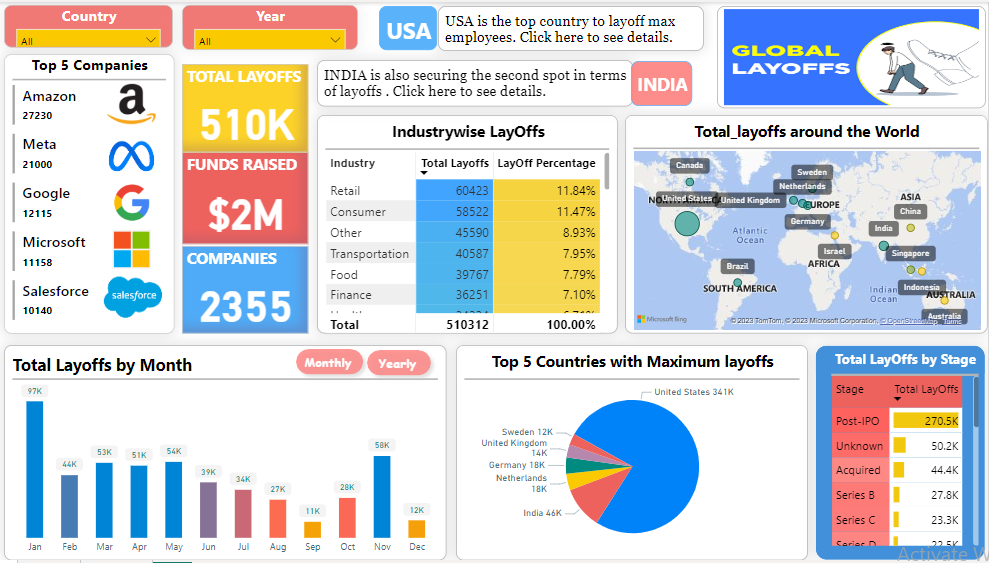

What the dashboard file says about the page in this screenshot:
{"tool":"powerbi","page":{"name":"WORLDWIDE","canvas":[1280,720],"ordinal":0},"visuals":[{"type":"donutChart","title":"Top 5 Countries with Maximum layoffs","fields":{"Category":["Countrywise_layoff_count.layoffs_country"],"Y":["Sum(Countrywise_layoff_count.Total_layoffs)"]},"box":[593,442.2,453.5,277.8],"z":0},{"type":"map","title":"Total_layoffs around the World","fields":{"Category":["Countrywise_layoff_count.layoffs_country","layoffs.location"],"Size":["Max(Countrywise_layoff_count.Total_layoffs)"]},"box":[812.1,146,467.7,282],"z":1000},{"type":"clusteredColumnChart","fields":{"Category":["layoffs.Month"],"Y":["Sum(layoffs.total_laid_off)"]},"box":[9.9,442.2,571.2,277.8],"z":2000},{"type":"tableEx","title":"Industrywise LayOffs","fields":{"Values":["layoffs.industry","Sum(layoffs.total_laid_off)","Sum(layoffs.% LayOffs)"]},"box":[413.9,146,388.3,282],"z":3000},{"type":"slicer","title":"Country","fields":{"Values":["layoffs.country"]},"box":[9.9,4.3,218.3,55.3],"z":4000},{"type":"slicer","title":"Year","fields":{"Values":["layoffs.Year","layoffs.Month"]},"box":[239.5,4.3,226.8,58.1],"z":5000},{"type":"tableEx","title":"Total LayOffs by Stage","fields":{"Values":["layoffs.stage","Sum(layoffs.total_laid_off)"]},"box":[1057.3,442.2,219.7,277.8],"z":6000},{"type":"multiRowCard","title":"Top 5 Companies ","fields":{"Values":["layoffs.company","Sum(layoffs.total_laid_off)"]},"box":[9.9,66.6,219.7,361.4],"z":8000},{"type":"card","title":"FUNDS RAISED","fields":{"Values":["Sum(layoffs.funds_raised)"]},"box":[239.5,194.2,163,119.1],"z":9000},{"type":"card","title":"TOTAL LAYOFFS","fields":{"Values":["layoffs.Total Employees Laid Off"]},"box":[239.5,80,163,114],"z":10000},{"type":"card","title":"COMPANIES","fields":{"Values":["Count(layoffs.company)"]},"box":[239.5,314.6,163,113.4],"z":11000},{"type":"textbox","box":[569.8,5,343,58.1],"z":12000},{"type":"textbox","box":[413.9,75.1,408.2,59.5],"z":13000},{"type":"actionButton","box":[494.6,5,75.1,56.7],"z":14000},{"type":"actionButton","box":[819.2,76.5,79.4,58.1],"z":15000},{"type":"image","box":[134.6,228.2,82.2,59.5],"z":16000},{"type":"image","box":[134.6,289.1,80.8,59.5],"z":17000},{"type":"image","box":[134.6,168.7,80.8,59.5],"z":18000},{"type":"image","box":[134.6,100.6,80.8,62.4],"z":19000},{"type":"image","box":[134.6,349,85,63.8],"z":20000},{"type":"actionButton","box":[378.4,439,104.9,51],"z":21000},{"type":"actionButton","box":[469.1,440,100.6,51],"z":22000},{"type":"image","box":[929.8,5.7,347.2,131.8],"z":23001}]}

Visuals, with their boxes in screenshot pixels (x1, y1, x2, y2), scaled from the page's 1280x720 canvas onto the 989x563 screenshot:
"Top 5 Countries with Maximum layoffs" donutChart: bbox=[458, 346, 809, 562]
"Total_layoffs around the World" map: bbox=[627, 114, 988, 335]
clusteredColumnChart - layoffs.Month x Sum(layoffs.total_laid_off): bbox=[8, 346, 449, 562]
"Industrywise LayOffs" tableEx: bbox=[320, 114, 620, 335]
"Country" slicer: bbox=[8, 3, 176, 47]
"Year" slicer: bbox=[185, 3, 360, 49]
"Total LayOffs by Stage" tableEx: bbox=[817, 346, 987, 562]
"Top 5 Companies " multiRowCard: bbox=[8, 52, 177, 335]
"FUNDS RAISED" card: bbox=[185, 152, 311, 245]
"TOTAL LAYOFFS" card: bbox=[185, 63, 311, 152]
"COMPANIES" card: bbox=[185, 246, 311, 335]
textbox: bbox=[440, 4, 705, 49]
textbox: bbox=[320, 59, 635, 105]
actionButton: bbox=[382, 4, 440, 48]
actionButton: bbox=[633, 60, 694, 105]
image: bbox=[104, 178, 168, 225]
image: bbox=[104, 226, 166, 273]
image: bbox=[104, 132, 166, 178]
image: bbox=[104, 79, 166, 127]
image: bbox=[104, 273, 170, 323]
actionButton: bbox=[292, 343, 373, 383]
actionButton: bbox=[362, 344, 440, 384]
image: bbox=[718, 4, 987, 108]
